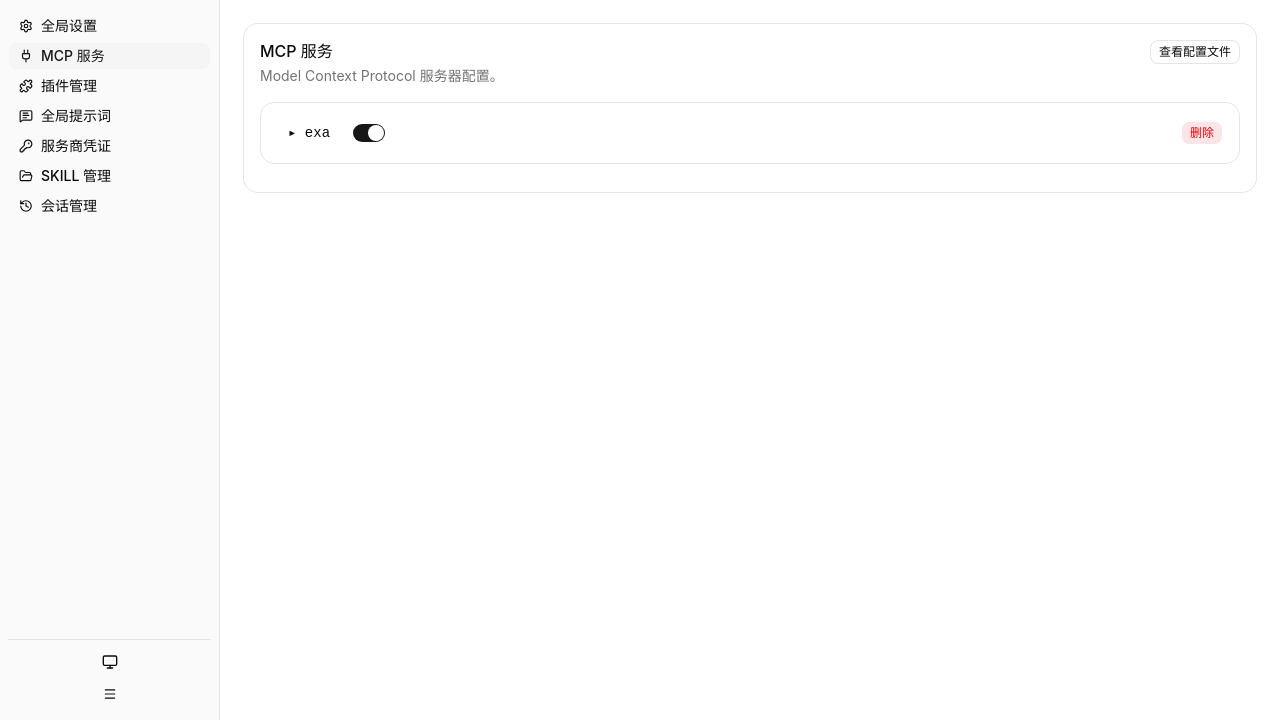
Test: App › opens the config dialog from a config page
The image size is (1280, 720).
Expected: the button with aria-label "展开 exa" is shown, [277,119,341,147]
Click the button "查看配置文件".
click(1195, 52)  # box [1150,40,1240,64]
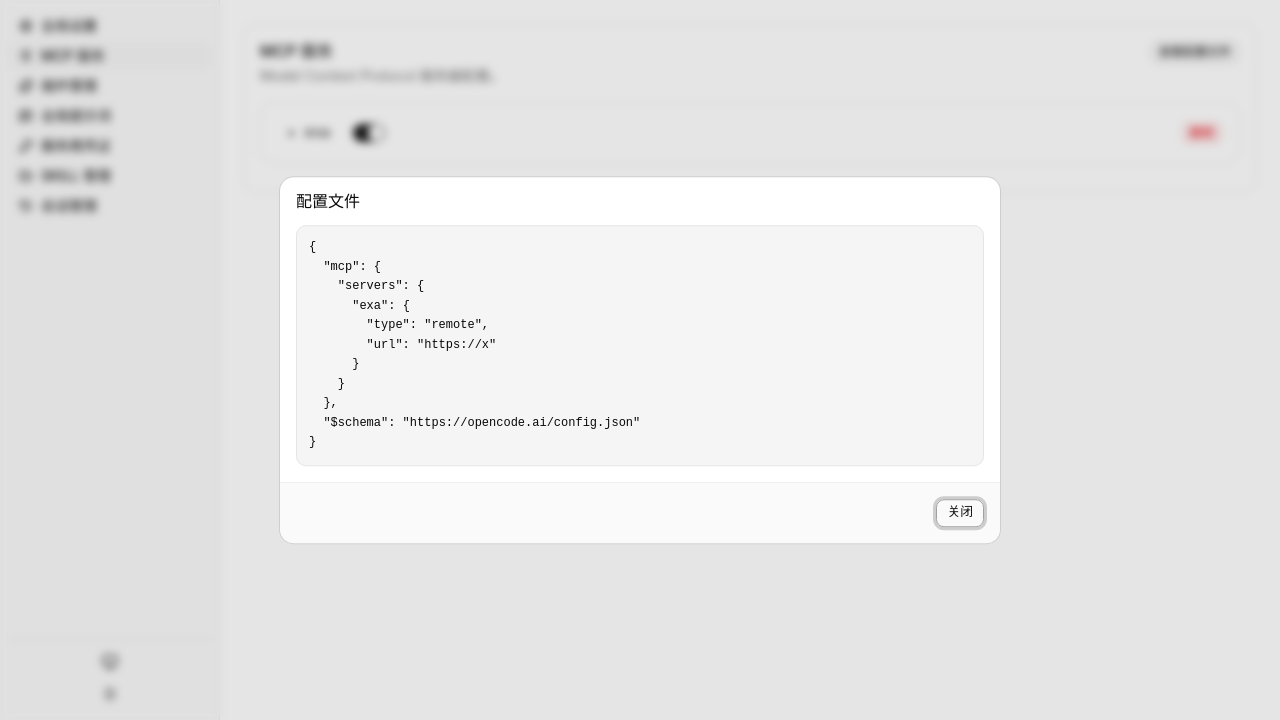
Now the heading "配置文件" is shown, box [296,191,360,211]
